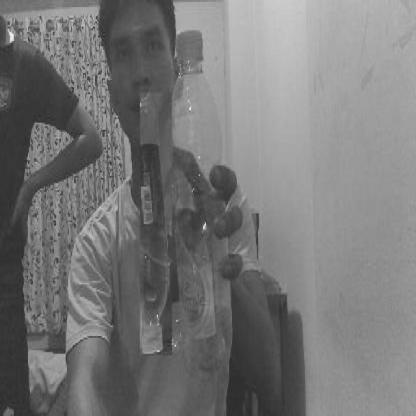plastic_bottles: (171, 31, 244, 382), (140, 92, 172, 356)
